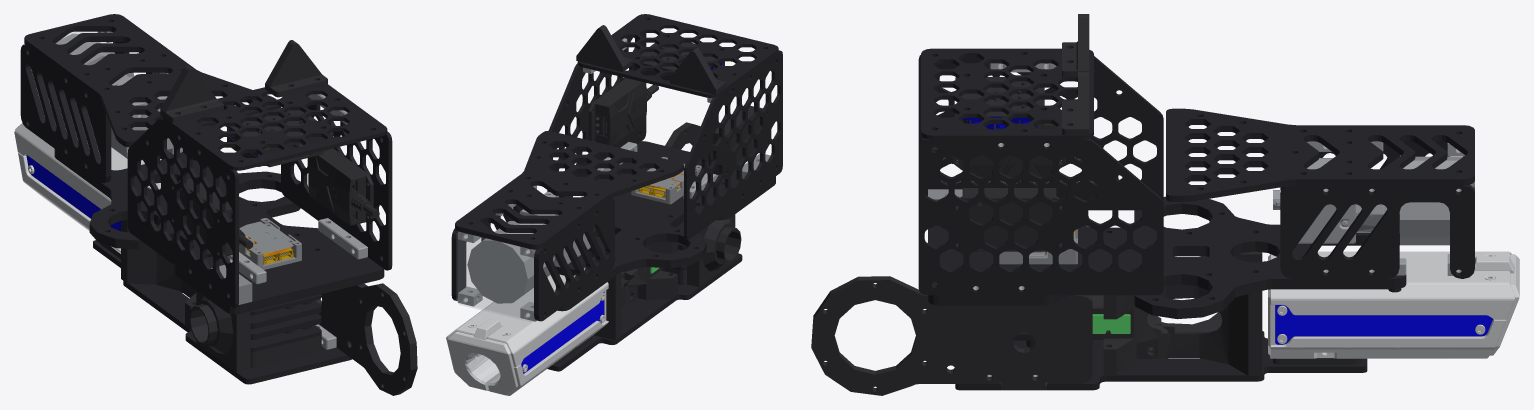
Rendered from pitch_link.glb.
3 views of the same model, side by side, from view 1: azimuth 30°, elevation 25°; view 2: azimuth 150°, elevation 25°; view 3: azimuth 270°, elevation 25° (orthographic). The views are drawn at different scales.
Parts seen in each view (by area): view 1: 3508安装板3（发射）10.26-1#89, 小yaw保护板10121.0-1#104, 摄像头固定3.1（10.11）云台2.0（10.12小yaw）1.0-1#101, 小yaw保护210121.0-2#96, 摄像头侧防护3.1（10.11）云台2.0（10.12小yaw）1.0-3#103, 连杆4.1（发射）（10.11）云台2.0（10.12小yaw）1.0-1#105, 小yaw保护板10121.0-1_1#106, 发射底板3（10.11）云台2.0（10.12小yaw）1.0-1#102, C620电调.1（10.11）云台2.0（10.12小yaw）1.0-1__输入1_1_b2f743#86, 云台转接件.2（10.11）云台2.0（10.12小yaw）1.0-1#12, 轴承限位01.3.13-1#608, （超对）RM18 裁判系统测速模块17mm（超对）（10.11）云台2.0（10.12小yaw）1.0-1__输入32# (+17 smaller); view 2: 摄像头固定3.1（10.11）云台2.0（10.12小yaw）1.0-1#101, 小yaw保护板10121.0-1#104, 3508安装板3（发射）10.26-1#89, 小yaw保护210121.0-2#96, 摄像头防护亚克力11.11-1#76, 摄像头侧防护3.1（10.11）云台2.0（10.12小yaw）1.0-3#103, （超对）RM18 裁判系统测速模块17mm（超对）（10.11）云台2.0（10.12小yaw）1.0-1__1#50, （超对）RM18 裁判系统测速模块17mm（超对）（10.11）云台2.0（10.12小yaw）1.0-1__输入32#, （超对）MV-CA016-10UMUC（超对）（10.11）云台2.0（10.12小yaw）1.0-1_12#68, 轴承限位01.3.13-1#608, C620电调.1（10.11）云台2.0（10.12小yaw）1.0-1__输入1_1_b2f743#86, 小yaw保护板10121.0-1_1#106 (+12 smaller); view 3: 小yaw保护板10121.0-1_1#106, 连杆4.1（发射）（10.11）云台2.0（10.12小yaw）1.0-1#105, 摄像头固定3.1（10.11）云台2.0（10.12小yaw）1.0-1#101, 3508安装板3（发射）10.26-1#89, 摄像头侧防护01.26.5.8-1#70, 小yaw保护210121.0-2#96, 轴承限位01.3.13-1#608, （超对）RM18 裁判系统测速模块17mm（超对）（10.11）云台2.0（10.12小yaw）1.0-1__输入32#, 小yaw保护板10121.0-1#104, （超对）RM18 裁判系统测速模块17mm（超对）（10.11）云台2.0（10.12小yaw）1.0-1__1#50, 发射底板3（10.11）云台2.0（10.12小yaw）1.0-1#102, （超对）RM18 裁判系统测速模块17mm（超对）（10.11）云台2.0（10.12小yaw）1.0-1__5_1b8 (+10 smaller).
Part boxes in pixels (box(x1,y1,x2,y2)): 3508安装板3（发射）10.26-1#89: box(54, 149, 384, 314); 小yaw保护板10121.0-1#104: box(127, 118, 238, 307); 摄像头固定3.1（10.11）云台2.0（10.12小yaw）1.0-1#101: box(24, 14, 281, 147); 小yaw保护210121.0-2#96: box(162, 84, 387, 170); 摄像头侧防护3.1（10.11）云台2.0（10.12小yaw）1.0-3#103: box(20, 44, 111, 183); 连杆4.1（发射）（10.11）云台2.0（10.12小yaw）1.0-1#105: box(315, 283, 417, 395); 小yaw保护板10121.0-1_1#106: box(281, 96, 392, 270); 发射底板3（10.11）云台2.0（10.12小yaw）1.0-1#102: box(93, 240, 351, 384); C620电调.1（10.11）云台2.0（10.12小yaw）1.0-1__输入1_1_b2f743#86: box(308, 148, 379, 225); 云台转接件.2（10.11）云台2.0（10.12小yaw）1.0-1#12: box(189, 290, 250, 372); 轴承限位01.3.13-1#608: box(121, 220, 196, 329); （超对）RM18 裁判系统测速模块17mm（超对）（10.11）云台2.0（10.12小yaw）1.0-1__输入32#: box(14, 124, 160, 209); 摄像头固定3.1（10.11）云台2.0（10.12小yaw）1.0-1#101: box(455, 130, 683, 249); 小yaw保护板10121.0-1#104: box(684, 50, 782, 239); 3508安装板3（发射）10.26-1#89: box(555, 141, 775, 311); 小yaw保护210121.0-2#96: box(577, 14, 778, 97); 摄像头防护亚克力11.11-1#76: box(456, 232, 534, 321); 摄像头侧防护3.1（10.11）云台2.0（10.12小yaw）1.0-3#103: box(534, 198, 614, 321); （超对）RM18 裁判系统测速模块17mm（超对）（10.11）云台2.0（10.12小yaw）1.0-1__1#50: box(447, 290, 608, 395); （超对）RM18 裁判系统测速模块17mm（超对）（10.11）云台2.0（10.12小yaw）1.0-1__输入32#: box(446, 274, 608, 367); （超对）MV-CA016-10UMUC（超对）（10.11）云台2.0（10.12小yaw）1.0-1_12#68: box(467, 192, 590, 303); 轴承限位01.3.13-1#608: box(578, 226, 677, 340); C620电调.1（10.11）云台2.0（10.12小yaw）1.0-1__输入1_1_b2f743#86: box(588, 78, 658, 145); 小yaw保护板10121.0-1_1#106: box(547, 33, 646, 191); 小yaw保护板10121.0-1_1#106: box(918, 138, 1163, 295); 连杆4.1（发射）（10.11）云台2.0（10.12小yaw）1.0-1#105: box(811, 276, 1092, 395); 摄像头固定3.1（10.11）云台2.0（10.12小yaw）1.0-1#101: box(1166, 108, 1474, 201); 3508安装板3（发射）10.26-1#89: box(928, 196, 1406, 319); 摄像头侧防护01.26.5.8-1#70: box(1280, 185, 1474, 278); 小yaw保护210121.0-2#96: box(921, 48, 1093, 139); 轴承限位01.3.13-1#608: box(1089, 251, 1262, 375); （超对）RM18 裁判系统测速模块17mm（超对）（10.11）云台2.0（10.12小yaw）1.0-1__输入32#: box(1270, 251, 1514, 319); 小yaw保护板10121.0-1#104: box(918, 55, 1163, 210); （超对）RM18 裁判系统测速模块17mm（超对）（10.11）云台2.0（10.12小yaw）1.0-1__1#50: box(1268, 254, 1519, 358); 发射底板3（10.11）云台2.0（10.12小yaw）1.0-1#102: box(955, 331, 1367, 390); （超对）RM18 裁判系统测速模块17mm（超对）（10.11）云台2.0（10.12小yaw）1.0-1__5_1b8: box(1275, 305, 1492, 344).
Bounding box in the file's own units: 0.1178 × 0.1548 × 0.3093.
